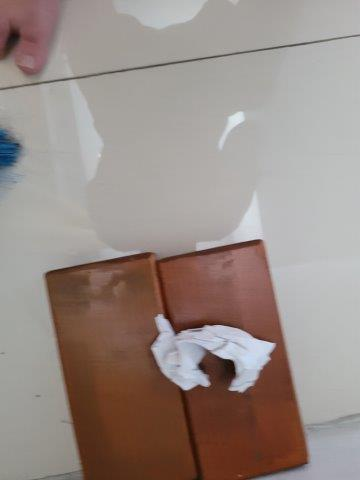kertas: (149, 312, 276, 392)
